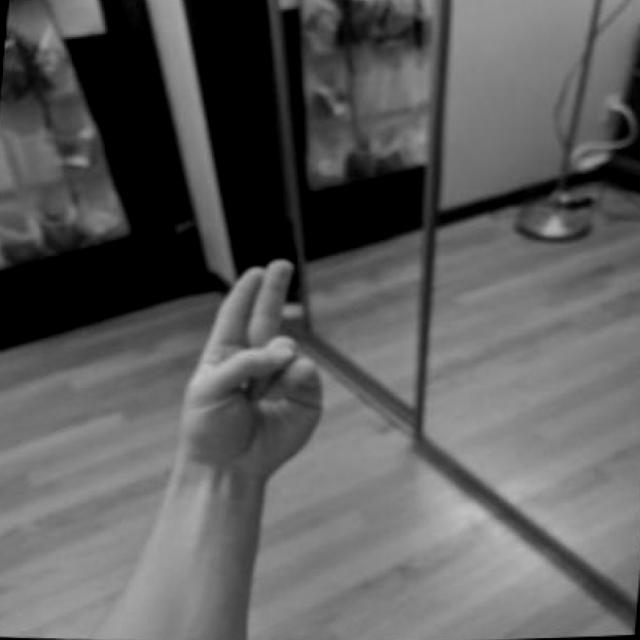U: (138, 250, 360, 640)
